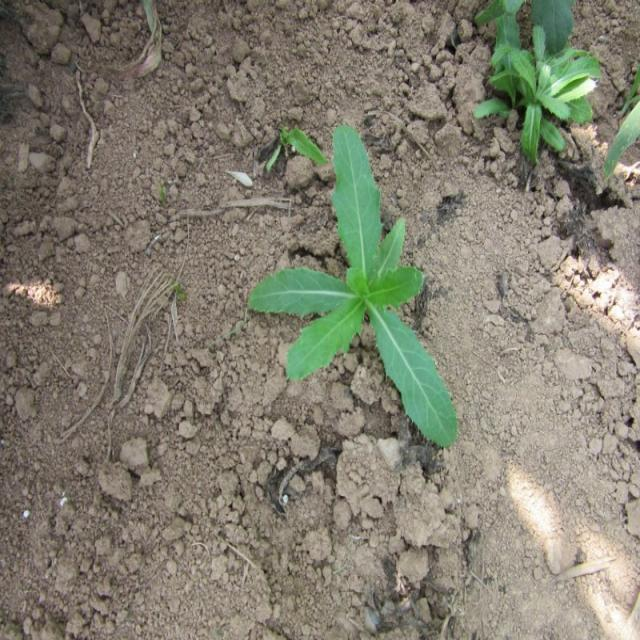cs: (244, 116, 464, 453)
